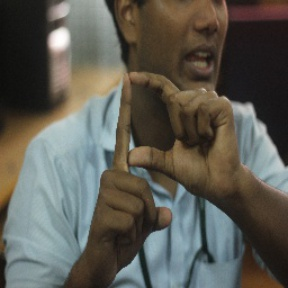D: (101, 66, 203, 202)
